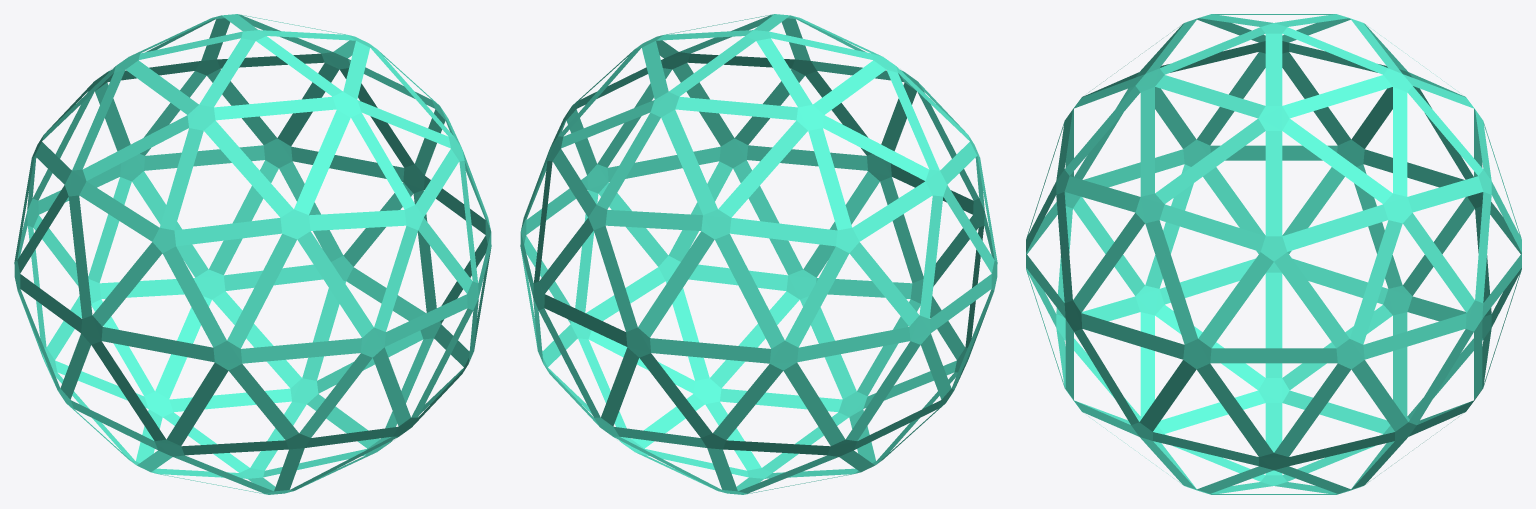
The model's file is barrier.obj.
The picture shows the model from 3 angles, left to right: view 1: azimuth 30°, elevation 25°; view 2: azimuth 150°, elevation 25°; view 3: azimuth 270°, elevation 25°; orthographic projection. The views are drawn at different scales.
Parts seen in each view (by area): view 1: ICO球; view 2: ICO球; view 3: ICO球.
Part boxes in pixels (bbox=[...]): ICO球: bbox=[14, 14, 491, 494]; ICO球: bbox=[520, 14, 997, 494]; ICO球: bbox=[1026, 14, 1521, 494].
Size of the model in its own units: 1.89 by 1.96 by 1.95.
1 material, 1 textured.
